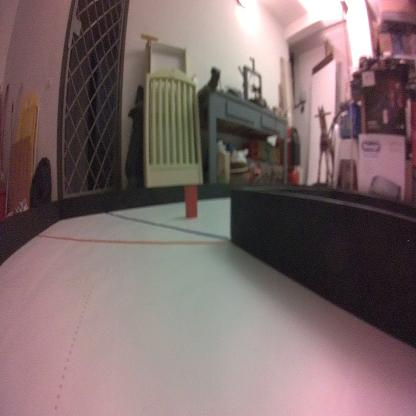red: (184, 184, 198, 219)
